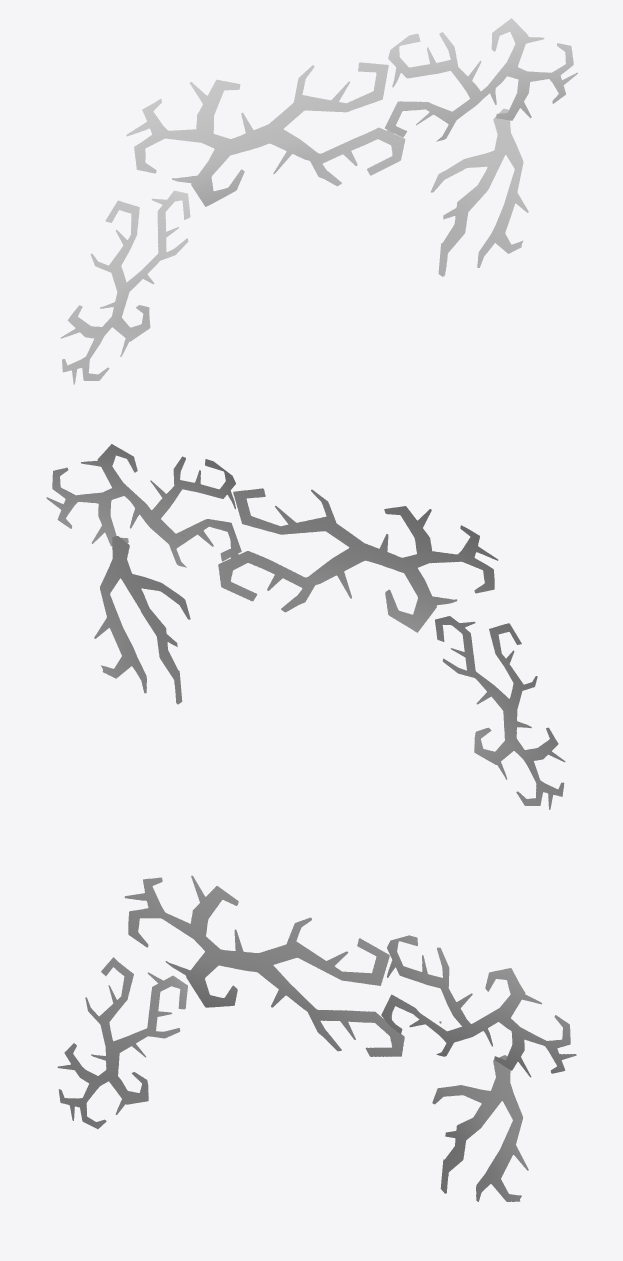
File: SM_Env_Vine_09.fbx
3 views of the same model, one above another, from view 1: azimuth 30°, elevation 25°; view 2: azimuth 150°, elevation 25°; view 3: azimuth 330°, elevation 25° (orthographic).
Visible parts, largest first — view 1: SM_Env_Vine_09; view 2: SM_Env_Vine_09; view 3: SM_Env_Vine_09.
Boxes of the visible parts, x1,y1,x2,y2 form: SM_Env_Vine_09: (60, 18, 577, 384); SM_Env_Vine_09: (46, 444, 565, 809); SM_Env_Vine_09: (57, 875, 576, 1201).
Size of the model in its own units: 305 by 167 by 7.86.
